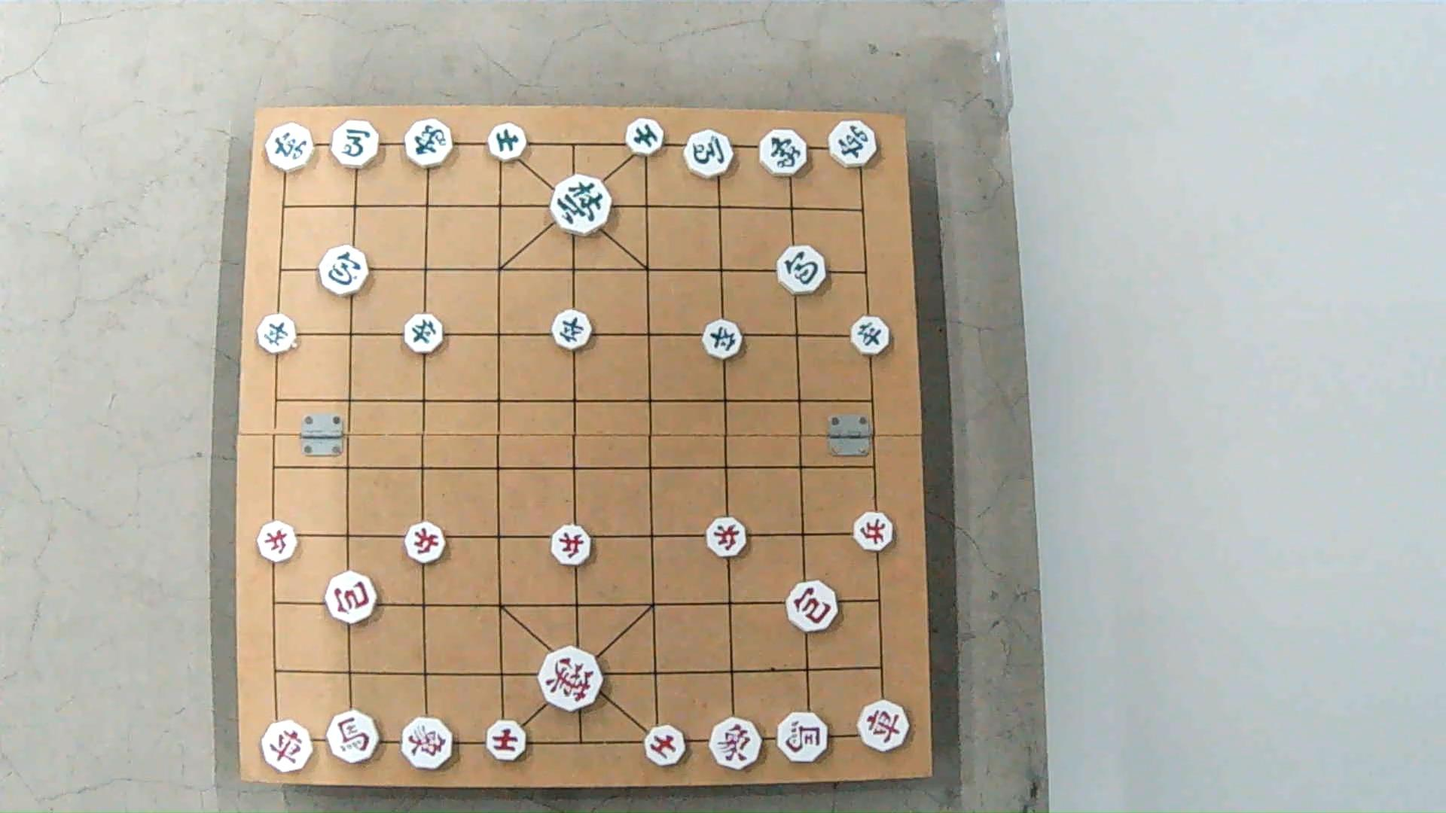cha_green: (267, 123, 316, 169), (826, 118, 875, 163)
cha_red: (261, 720, 314, 773), (859, 700, 911, 753)
jol_green: (401, 315, 444, 352), (551, 311, 592, 349), (702, 323, 743, 361), (252, 315, 294, 352), (852, 319, 892, 356)
jol_red: (253, 523, 297, 562), (549, 526, 592, 565), (403, 525, 446, 563), (853, 513, 895, 551), (711, 520, 753, 558)
ma_green: (684, 131, 737, 178), (333, 122, 383, 167)
ma_red: (324, 712, 379, 763), (775, 713, 826, 763)
po_green: (317, 244, 371, 294), (778, 247, 828, 293)
po_red: (325, 573, 378, 622), (785, 583, 837, 632)
sa_green: (485, 125, 526, 161), (625, 118, 664, 154)
sa_red: (643, 726, 686, 765), (482, 722, 528, 758)
sang_green: (404, 120, 456, 168), (760, 128, 808, 172)
sang_red: (401, 716, 455, 769), (709, 718, 762, 767)
wang_green: (550, 175, 612, 232)
wang_red: (541, 650, 606, 710)
